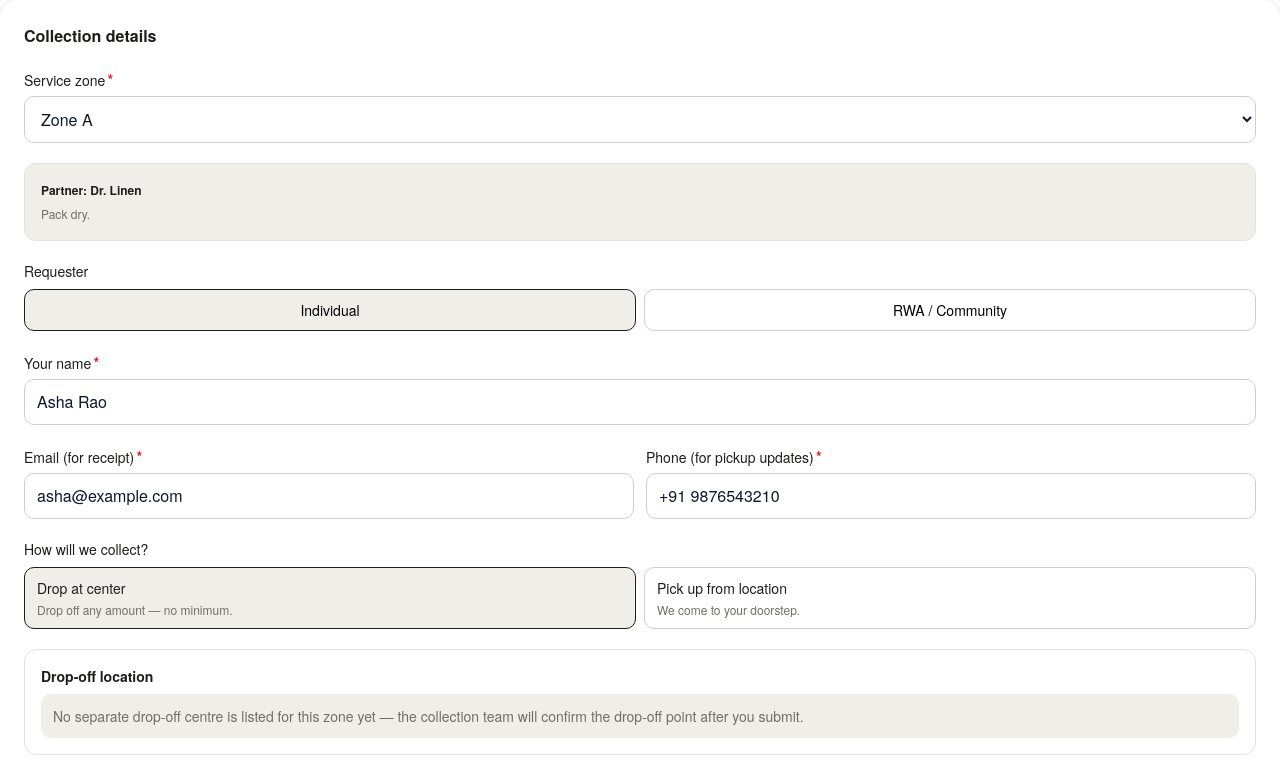
Test: TextileCollectionFields › pre-fills name, email, phone, and address from the citizen profile
The width and height of the screenshot is (1280, 776).
Expected: the field labelled "Your name" holds "Asha Rao", [24,379,1256,425]
Expected: the field labelled "Email (for receipt)" holds "asha@example.com", [24,473,634,519]
# Address pre-fill is visible once pickup from location is selected.
Click the text "Pick up from location". click: coordinates (722, 588)
box: [657,578,787,598]
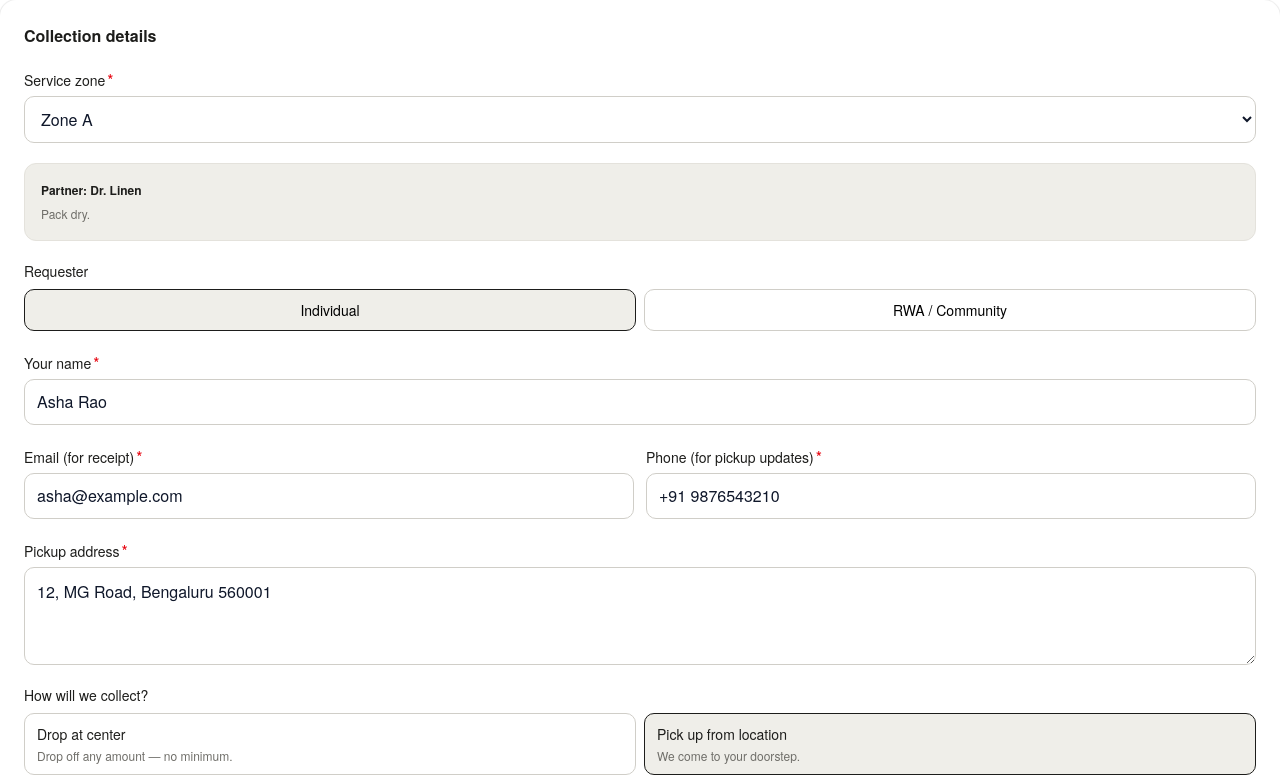
Expected: the text box labelled "Pickup address" holds "12, MG Road, Bengaluru 560001", [24,567,1256,665]
